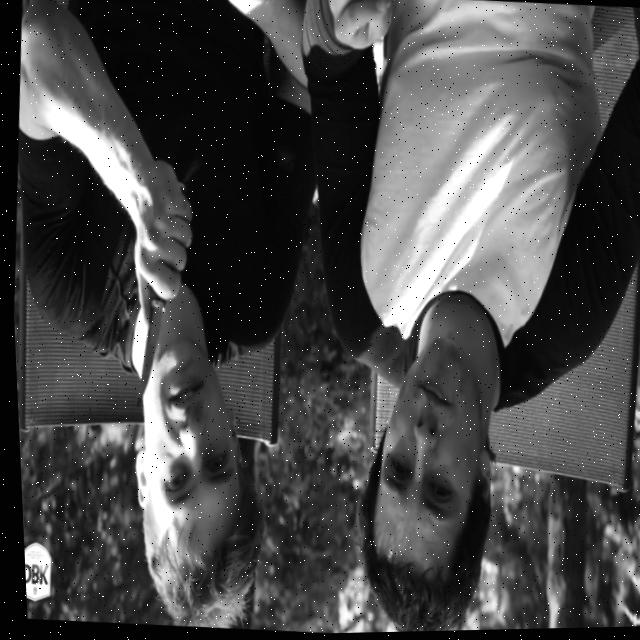knife: (127, 293, 167, 409)
